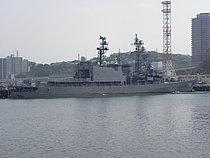MIL_Ship: (7, 34, 196, 98)
